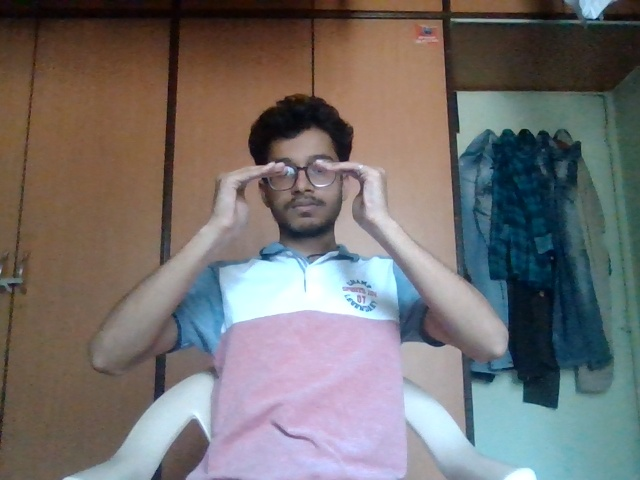afternoon: (205, 149, 417, 262)
